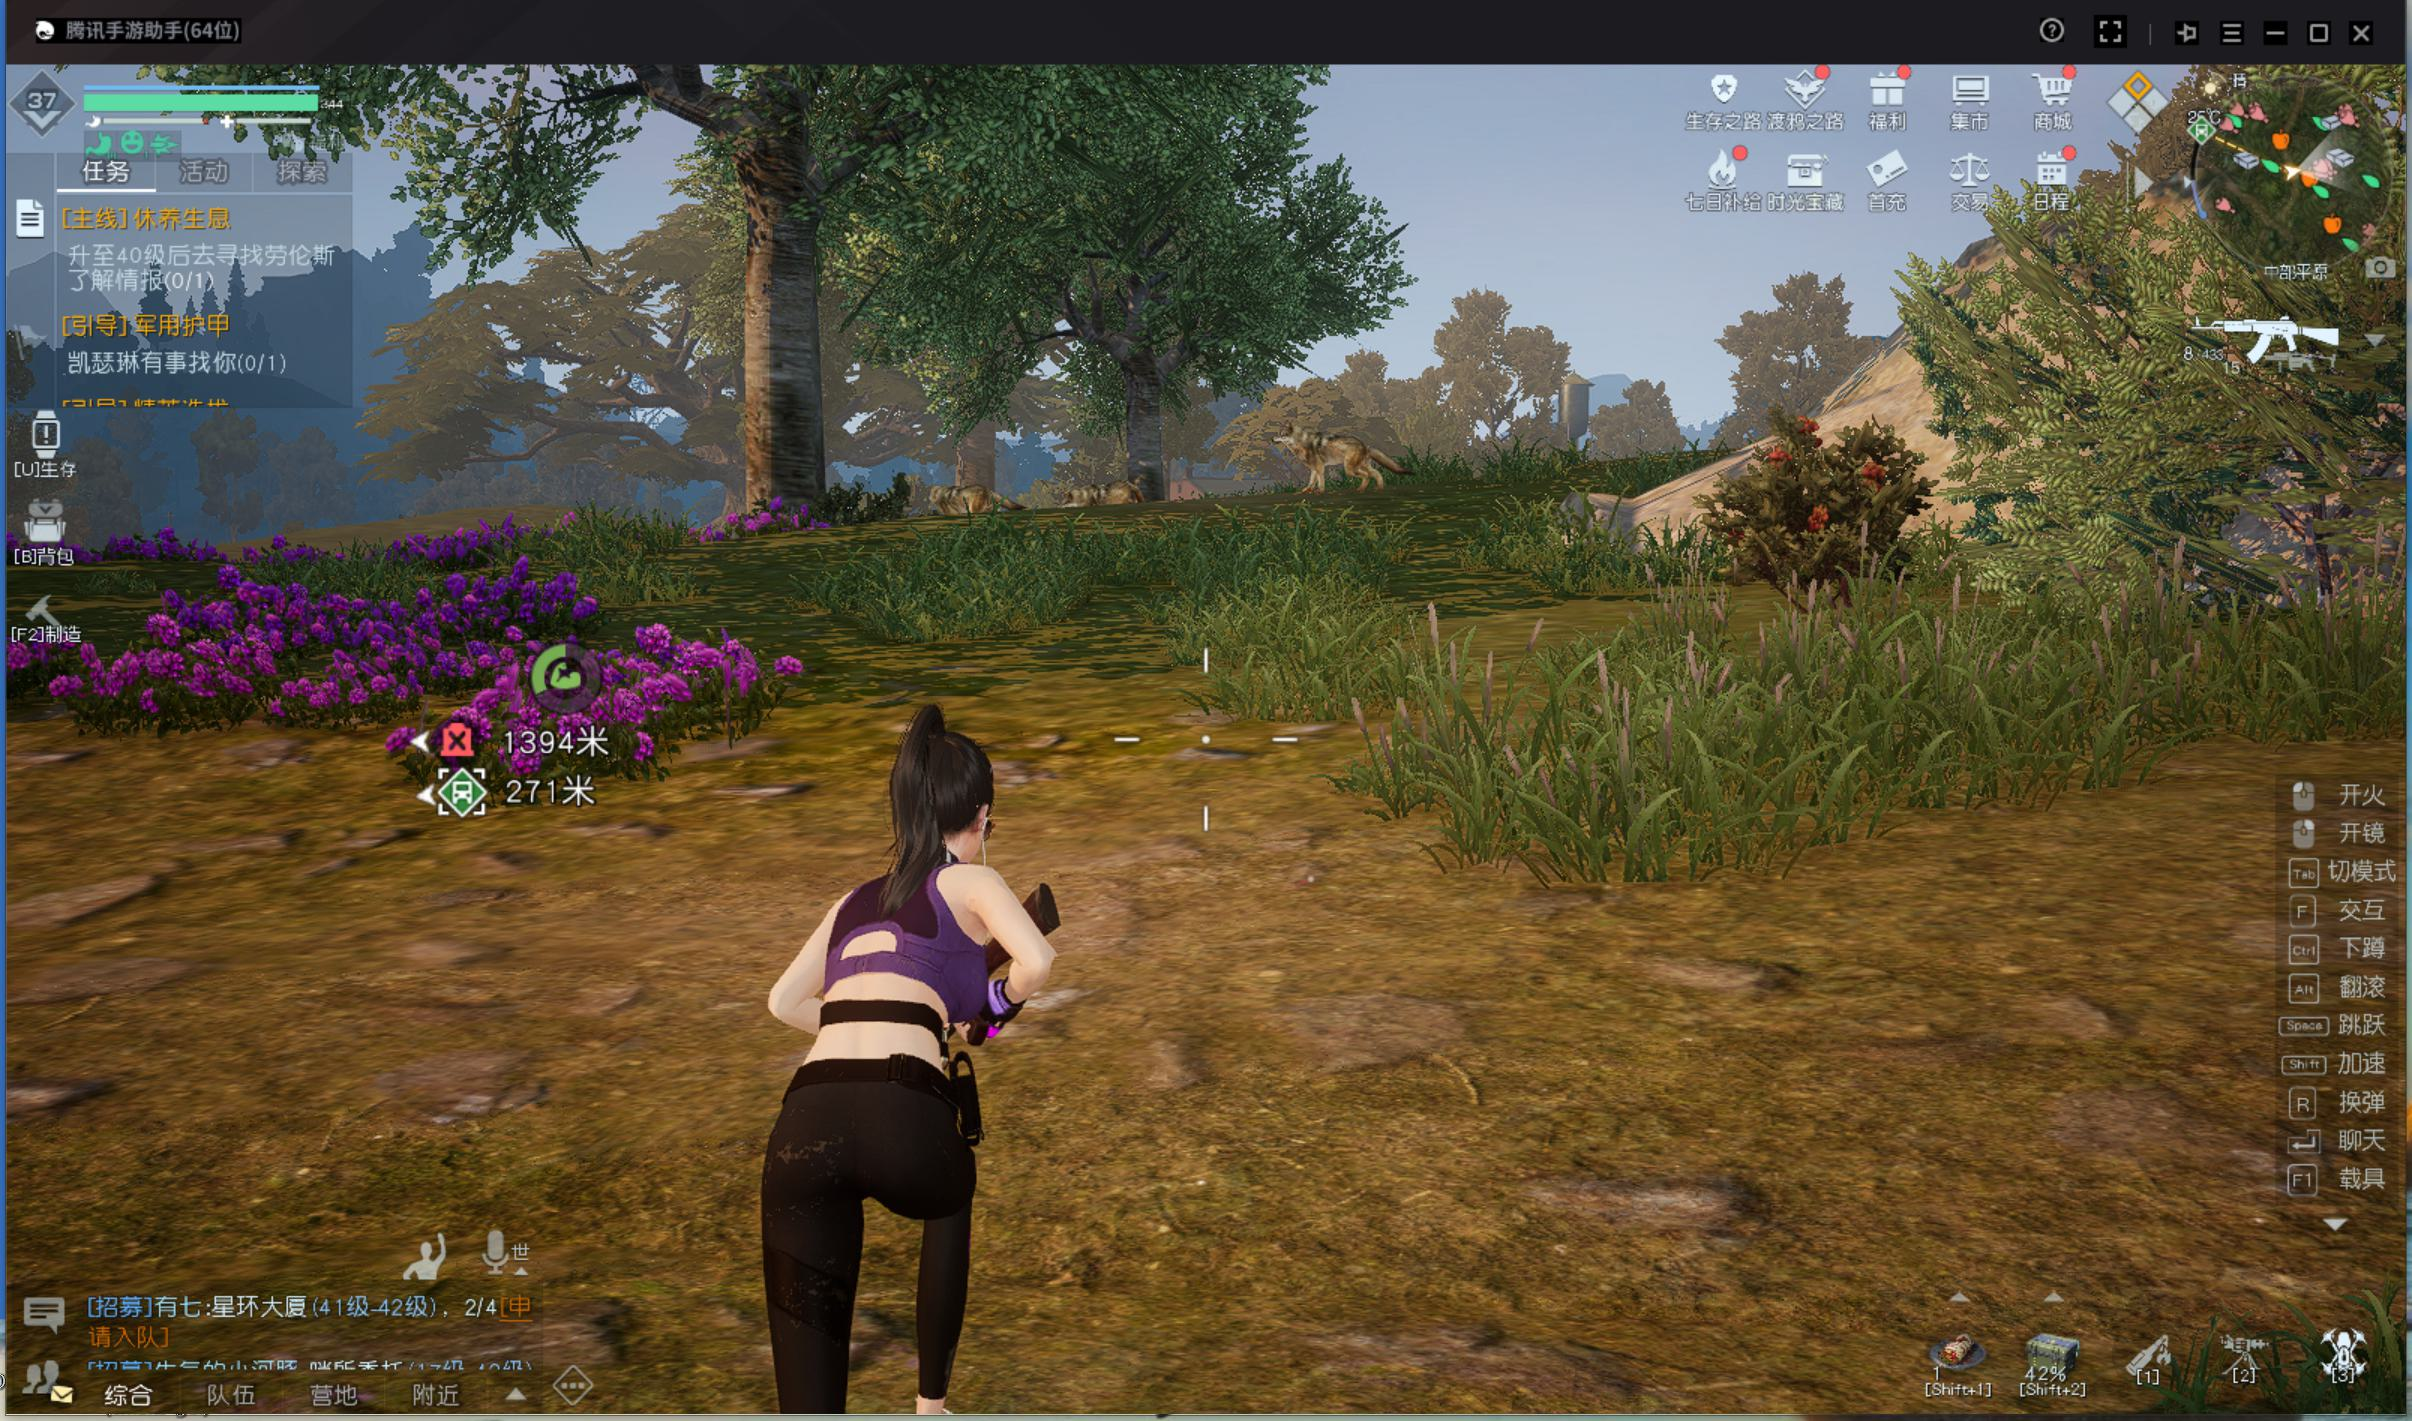tree: (732, 217, 837, 531), (1116, 354, 1176, 518), (939, 386, 1003, 513)
